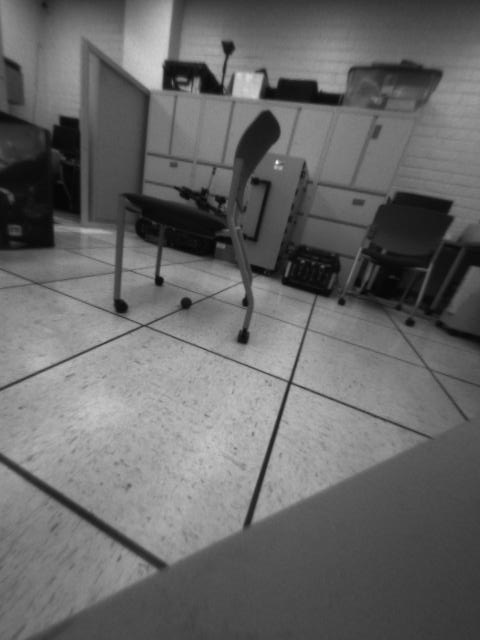dogtoy: (171, 290, 203, 316)
